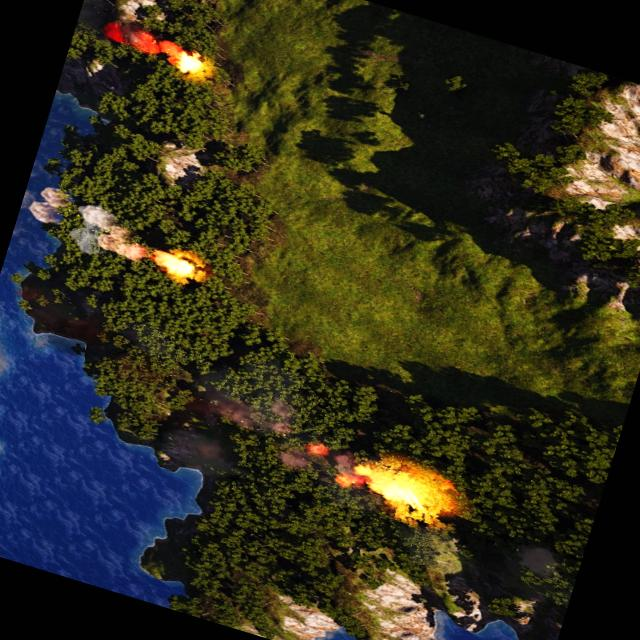fire: (344, 450, 456, 526), (146, 246, 200, 283), (174, 44, 210, 80)
smoke: (196, 375, 382, 494), (19, 178, 154, 266), (74, 0, 180, 60)
